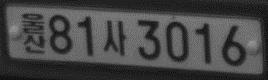0: (165, 20, 190, 63)
1: (193, 21, 212, 65), (76, 14, 94, 58)
3: (136, 18, 161, 60)
6: (221, 23, 246, 66)
8: (47, 13, 73, 55)
사: (102, 17, 127, 56)
울산_V: (21, 11, 47, 54)
